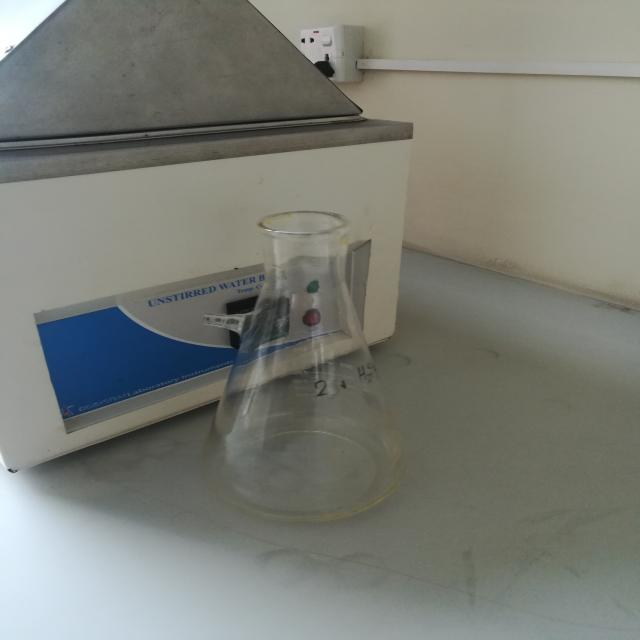Conical_Flask: (153, 168, 464, 543)
